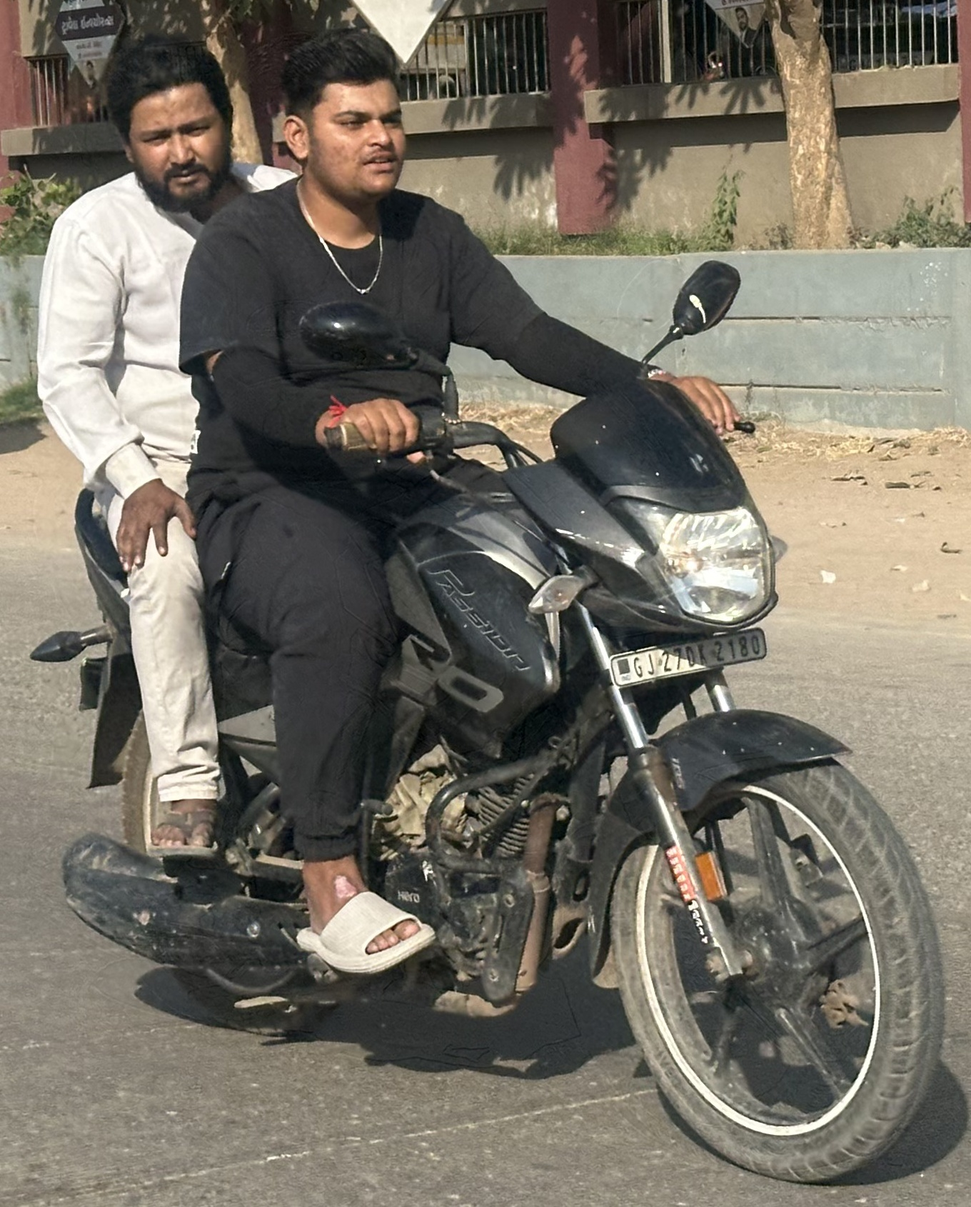BikeWithRider: (19, 21, 957, 1192)
NoHelmet: (263, 22, 422, 214), (96, 22, 243, 223)
